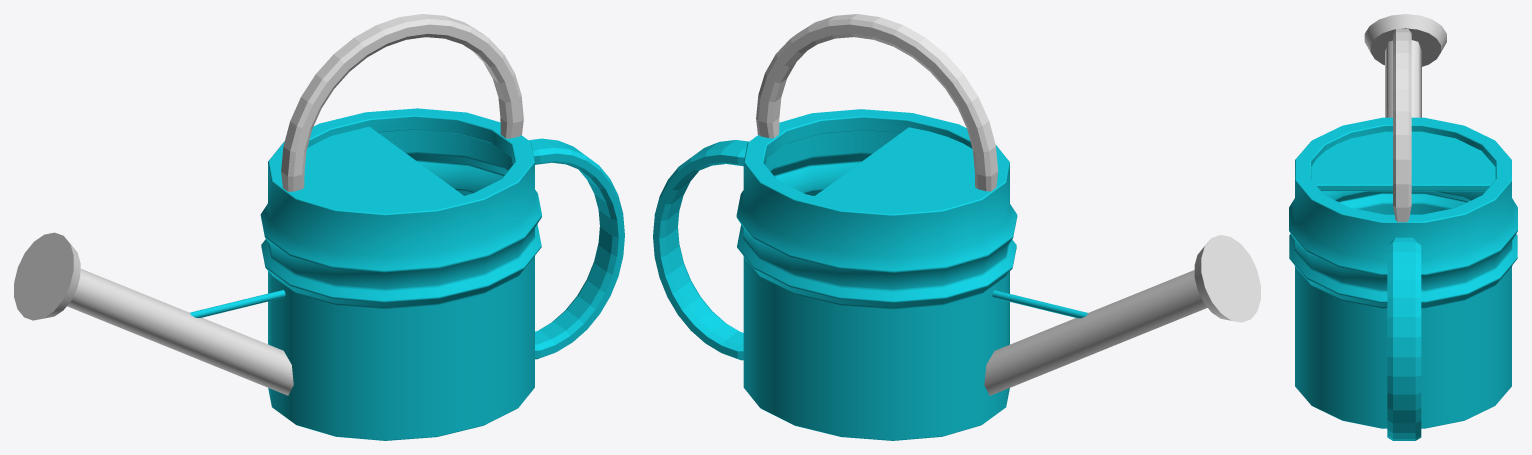
The model's file is Penyiram.fbx.
The picture shows the model from 3 angles, left to right: view 1: azimuth 30°, elevation 25°; view 2: azimuth 150°, elevation 25°; view 3: azimuth 270°, elevation 25°; orthographic projection. The views are drawn at different scales.
Visible parts, largest first — view 1: Penyiram.003; view 2: Penyiram.003; view 3: Penyiram.003.
Part boxes in pixels (x1,y1,x2,y2): Penyiram.003: (14,14,624,440); Penyiram.003: (653,14,1260,440); Penyiram.003: (1289,14,1517,440).
Size of the model in its own units: 82.72 by 49.13 by 30.28.
